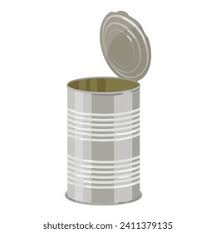can: (53, 7, 158, 210)
